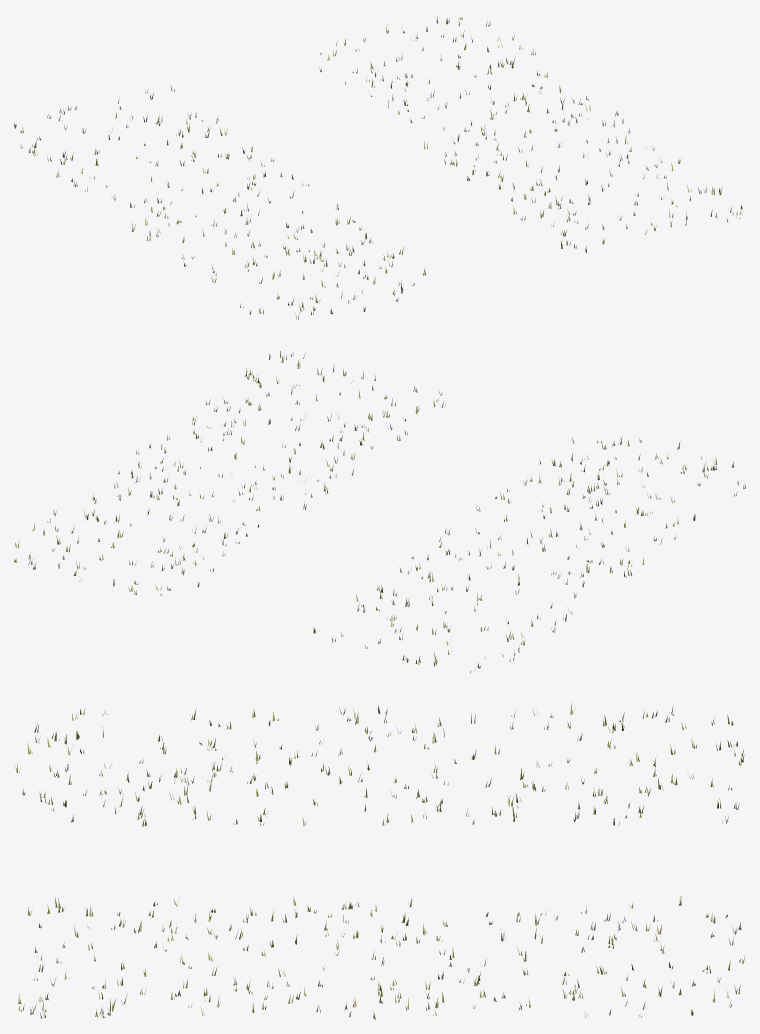
The model's file is Meadow_GrassPatch_06.obj.
3 renders of one model, top to bottom at view 1: azimuth 30°, elevation 25°; view 2: azimuth 150°, elevation 25°; view 3: azimuth 270°, elevation 25°, orthographic. The views are drawn at different scales.
Parts seen in each view (by area): view 1: Meadow_GrassPatch_06; view 2: Meadow_GrassPatch_06; view 3: Meadow_GrassPatch_06.
Part boxes in pixels (x1=…): Meadow_GrassPatch_06: x1=14, y1=17, x2=742, y2=319; Meadow_GrassPatch_06: x1=14, y1=351, x2=745, y2=673; Meadow_GrassPatch_06: x1=15, y1=703, x2=745, y2=1019.
Size of the model in its own units: 20.07 by 0.4189 by 20.21.
1 material, 1 textured.
